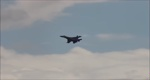maybay_muctieu: (59, 33, 84, 46)
